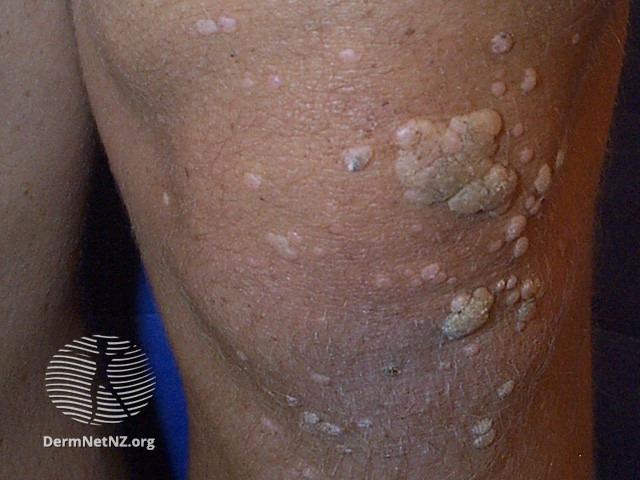Warts: (389, 105, 525, 224), (429, 275, 500, 347), (499, 266, 549, 332), (482, 24, 522, 61)
